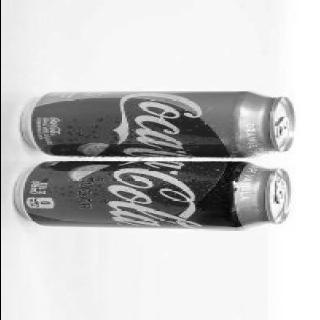alumunium_can: (13, 159, 293, 230), (18, 90, 296, 159)
